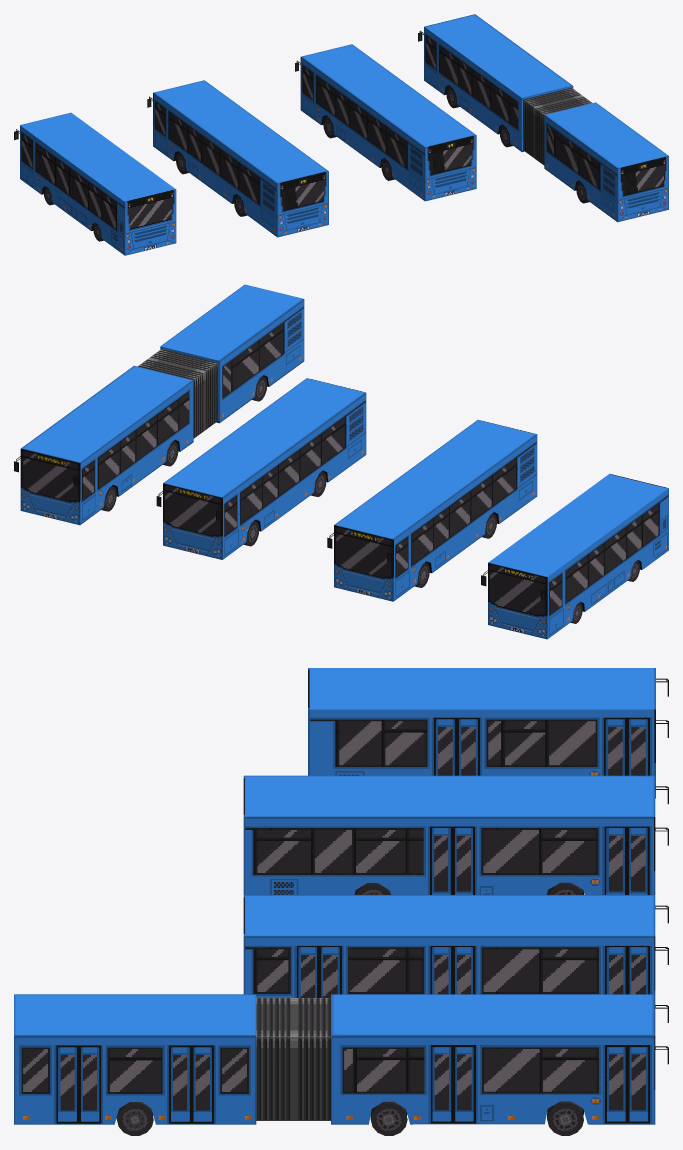
File: bus.obj
The picture shows the model from 3 angles, top to bottom: view 1: azimuth 30°, elevation 25°; view 2: azimuth 150°, elevation 25°; view 3: azimuth 270°, elevation 25°; orthographic projection. The views are drawn at different scales.
Parts seen in each view (by area): view 1: Cube.004, Cube.003, Cube.005, Cube.001; view 2: Cube.004, Cube.005, Cube.003, Cube.001; view 3: Cube.004, Cube.005, Cube.003, Cube.001, Cylinder.013_Cylinder.020, Cylinder.015_Cylinder.022, Cylinder.016_Cylinder.023.
Boxes of the visible parts, box(x1,y1,x2,y2) form: Cube.004: box(418, 14, 668, 222); Cube.003: box(295, 44, 476, 201); Cube.005: box(147, 80, 328, 237); Cube.001: box(14, 112, 176, 255); Cube.004: box(14, 284, 304, 525); Cube.005: box(327, 420, 537, 601); Cube.003: box(156, 378, 366, 559); Cube.001: box(481, 473, 668, 639); Cube.004: box(14, 994, 668, 1124); Cube.005: box(243, 775, 668, 894); Cube.003: box(243, 895, 668, 997); Cube.001: box(308, 668, 668, 798); Cylinder.013_Cylinder.020: box(547, 1101, 583, 1135); Cylinder.015_Cylinder.022: box(370, 1101, 407, 1135); Cylinder.016_Cylinder.023: box(116, 1102, 153, 1135).
Bounding box in the file's own units: 17.89 × 2.27 × 13.34.
Materials: 7 (7 with a texture image).
